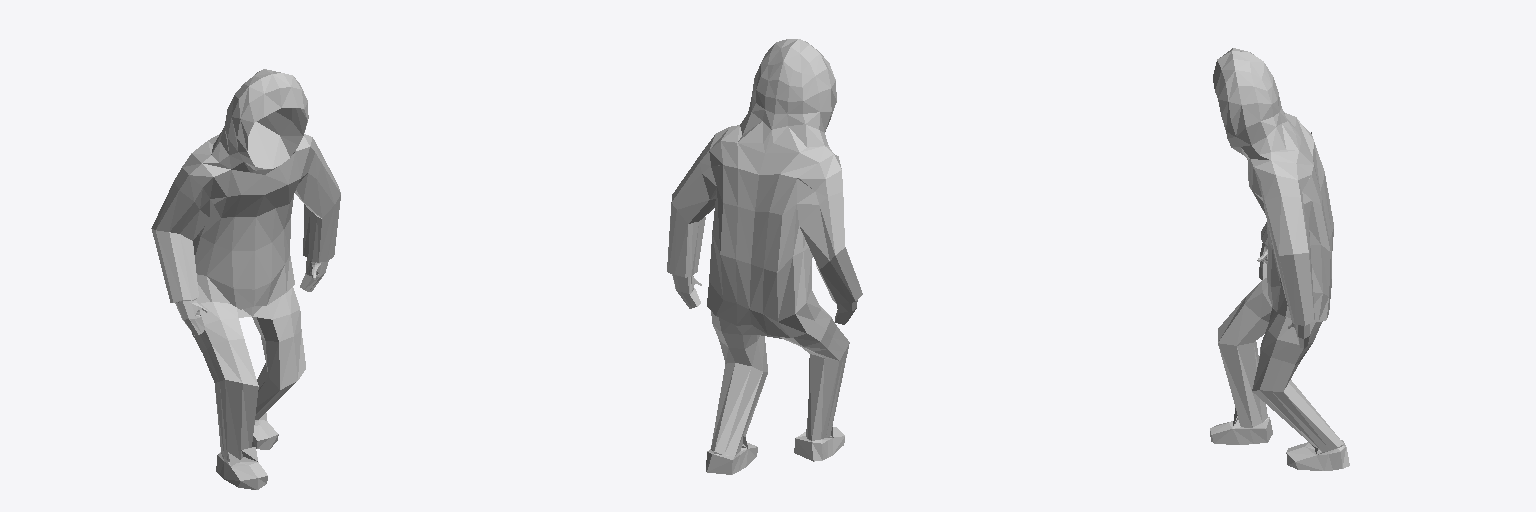
Rendered from Shadowmanv_000044.obj.
3 renders of one model, left to right at view 1: azimuth 30°, elevation 25°; view 2: azimuth 150°, elevation 25°; view 3: azimuth 270°, elevation 25°, orthographic.
Visible parts, largest first — view 1: Cube.000; view 2: Cube.000; view 3: Cube.000.
Boxes of the visible parts, box(x1,y1,x2,y2) form: Cube.000: box(151, 69, 340, 489); Cube.000: box(667, 39, 862, 474); Cube.000: box(1210, 48, 1349, 470).
Size of the model in its own units: 5.04 by 10.93 by 3.44.